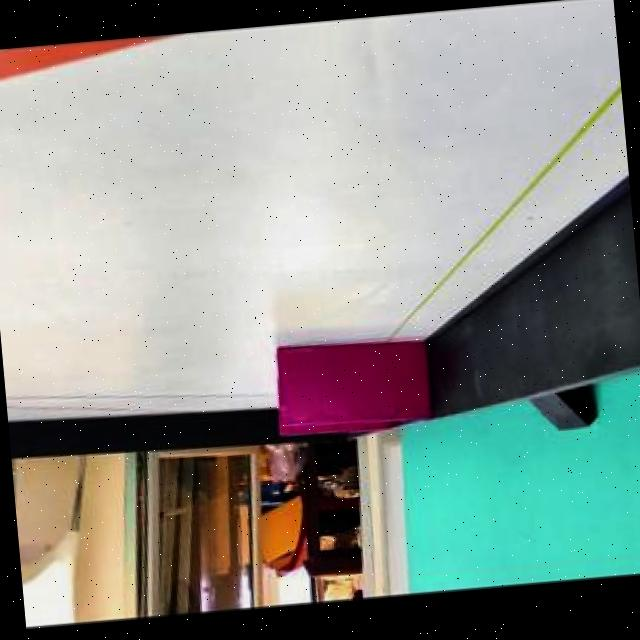xparking: (276, 339, 421, 422)
